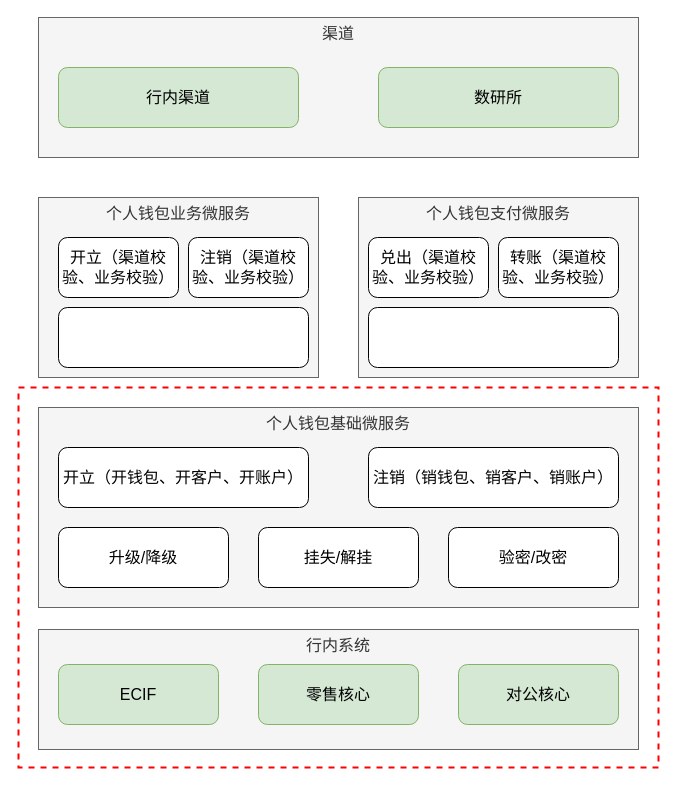
Image size: 676x786. Some labels were removed from this diagram. The shapes that lost their labels are listed below. From the top down, each one's centre as x and y in pixels, then its label:
(183,337): 其他钱包功能（业务逻辑封装）
(493,337): 其他钱包支付功能（业务逻辑封装）
